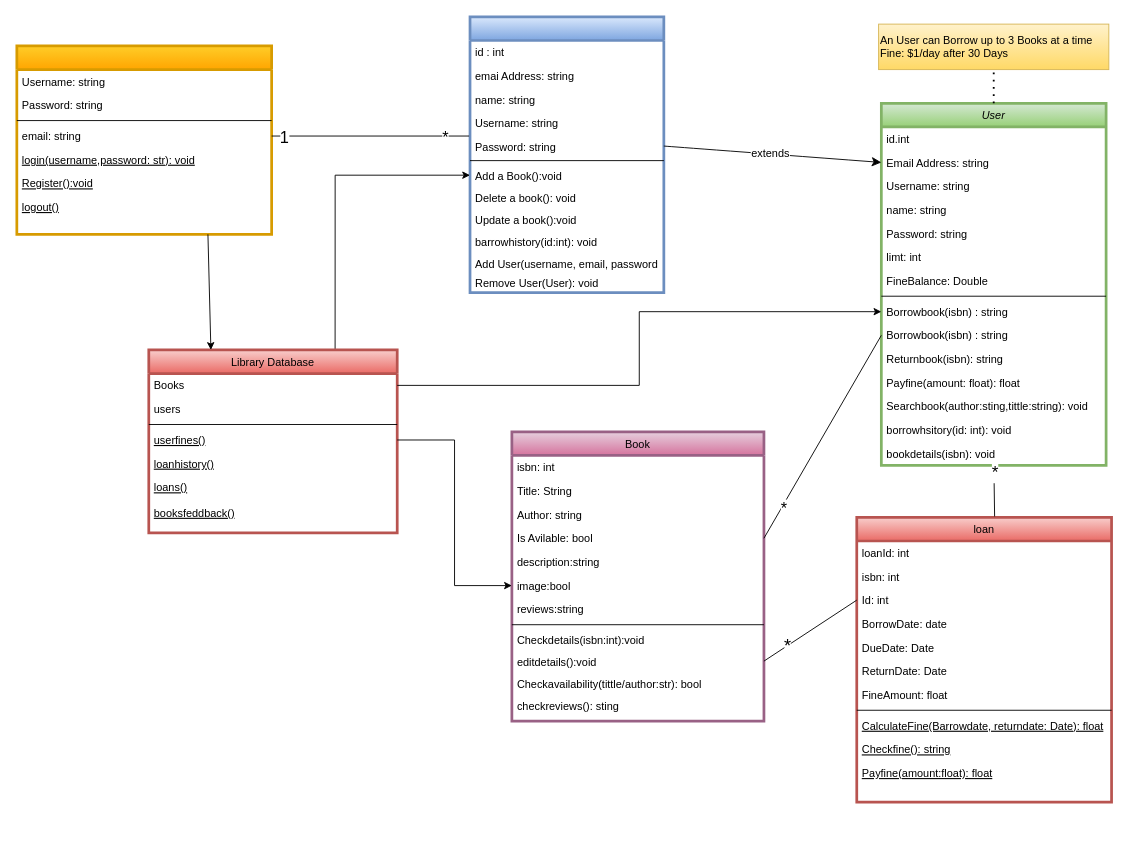
Image size: 1128x854. Some labels were removed from this diagram. Here are the shapes that lost their labels. From the top down, the box of each, then its label:
(15, 44, 273, 235): Libaray Management System
(468, 15, 665, 293): Librarian
